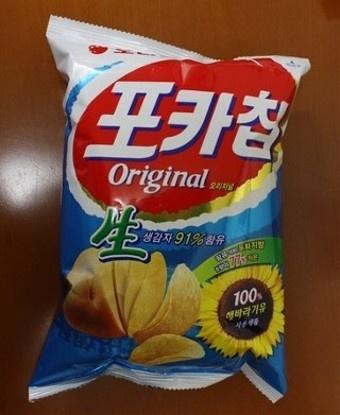snack: (28, 14, 313, 405)
